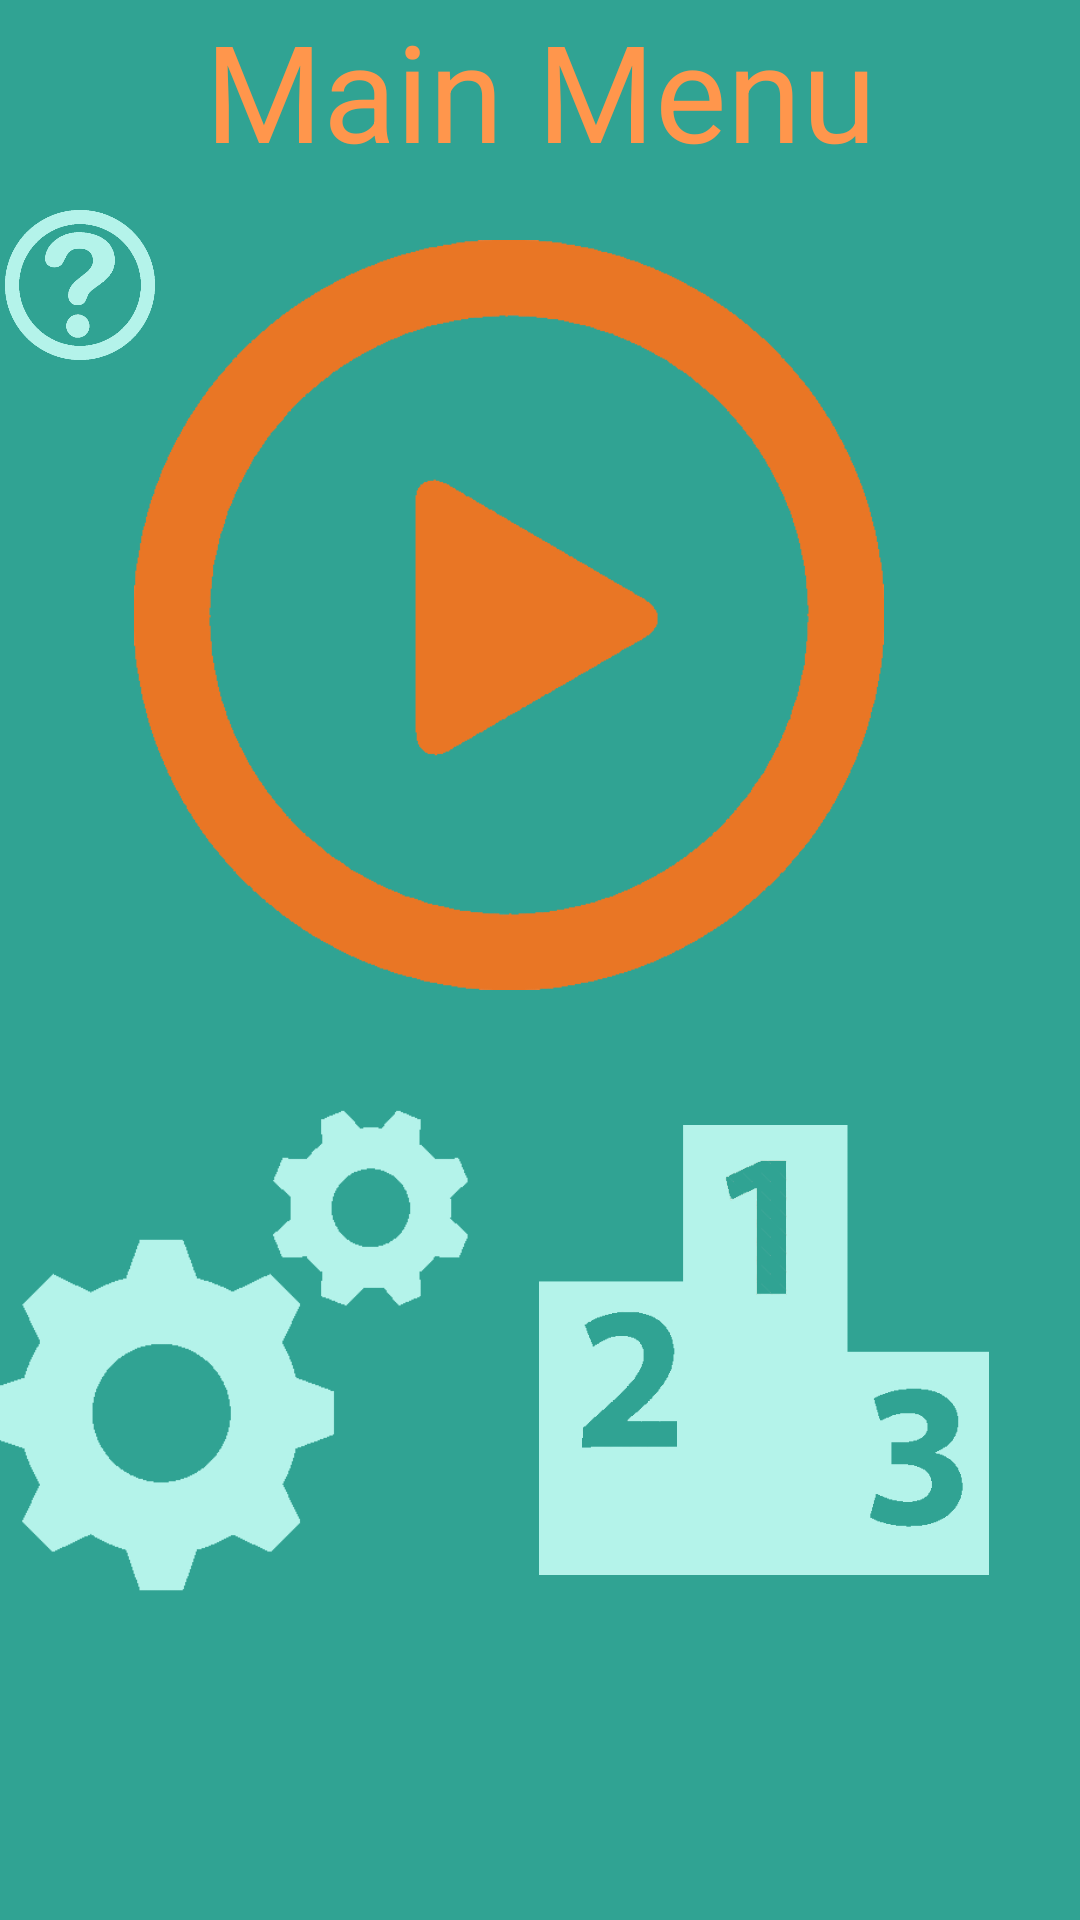

Icon click points for this 1080x1920 phone screenshot, format (x=x, y=y):
help: (x=80, y=285)
